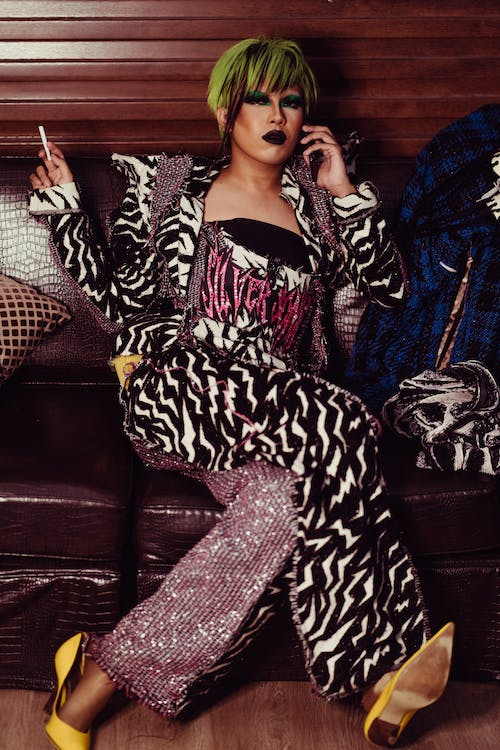cigarette: (36, 123, 55, 163)
